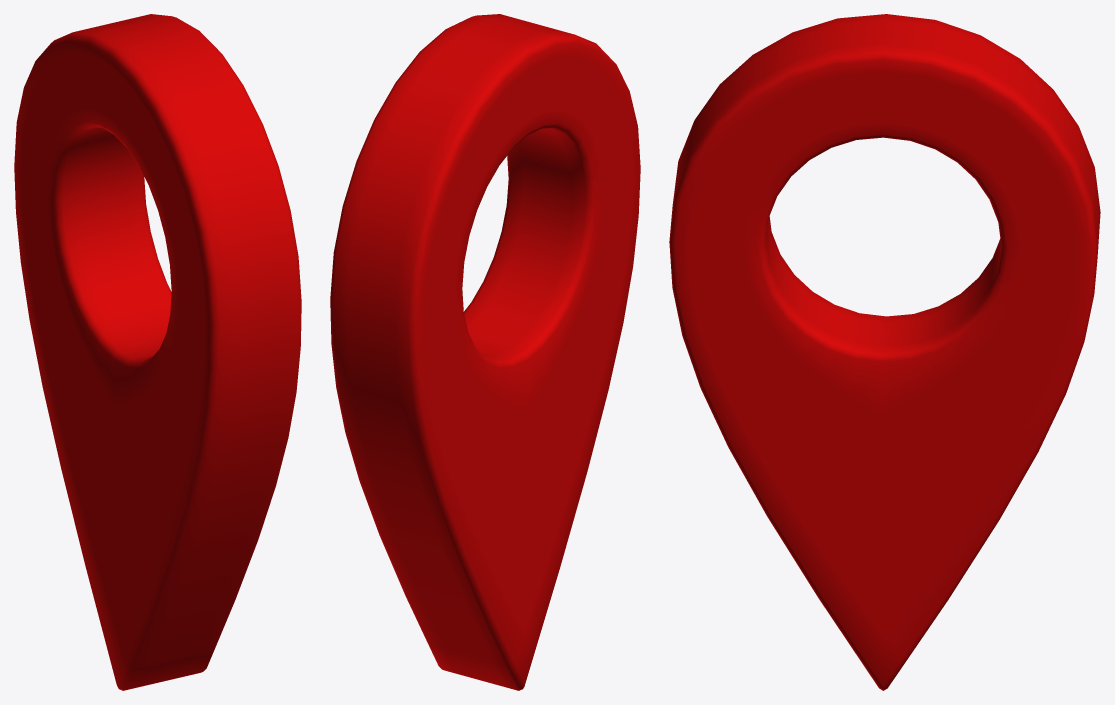
File: marker.glb
The picture shows the model from 3 angles, left to right: view 1: azimuth 30°, elevation 25°; view 2: azimuth 150°, elevation 25°; view 3: azimuth 270°, elevation 25°; orthographic projection.
Visible parts, largest first — view 1: pointer; view 2: pointer; view 3: pointer.
Boxes of the visible parts, x1,y1,x2,y2 form: pointer: (14,14,301,690); pointer: (330,14,640,690); pointer: (669,14,1100,690).
Bounding box in the file's own units: 1.67 × 10.01 × 6.13.
1 material, 1 textured.
